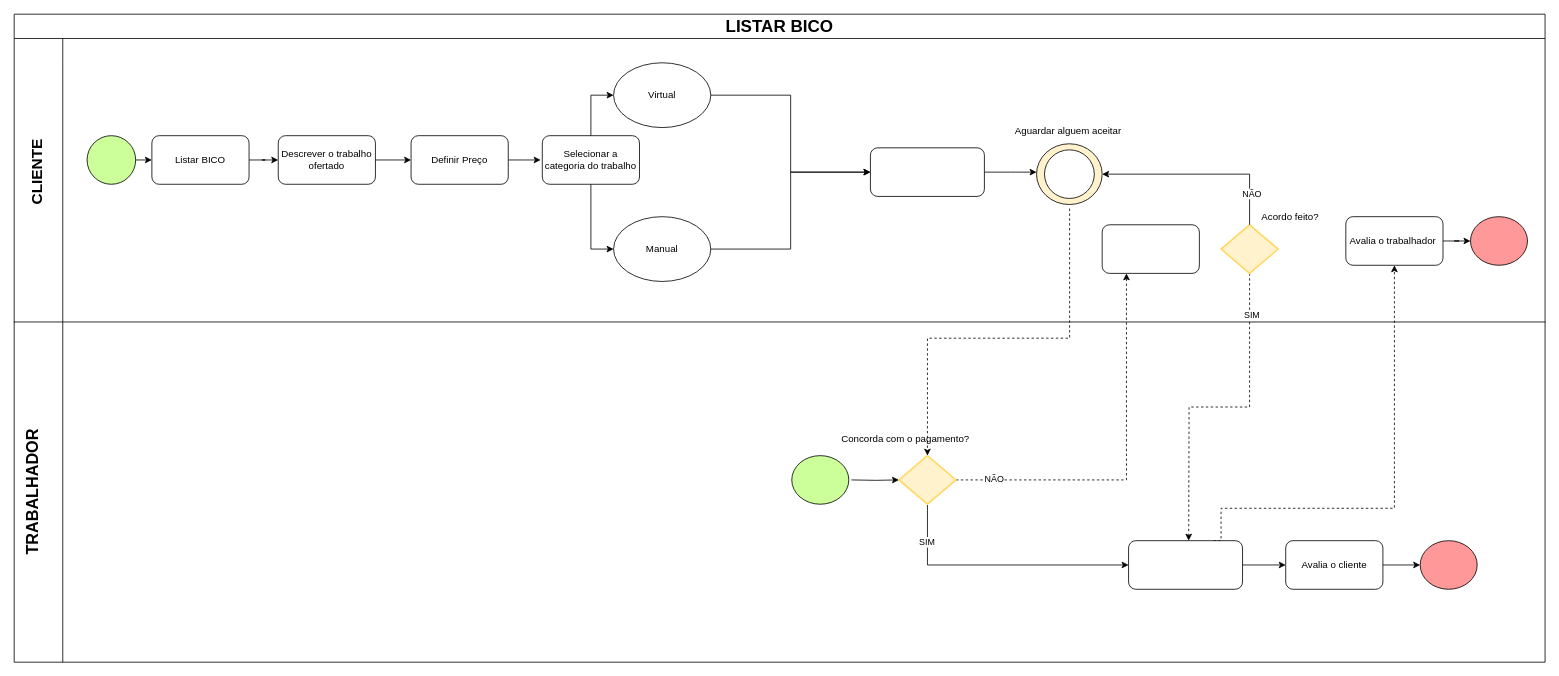
The diagram is 1559 pixels wide and 676 high, and some of its shapes have lost their labels. Each missing label, with the centre of its shape:
"Negocia novo valor" belongs at pixel 1150 248.
"Publicar Anúncio" belongs at pixel 927 171.
"Realiza o serviço" belongs at pixel 1185 564.
